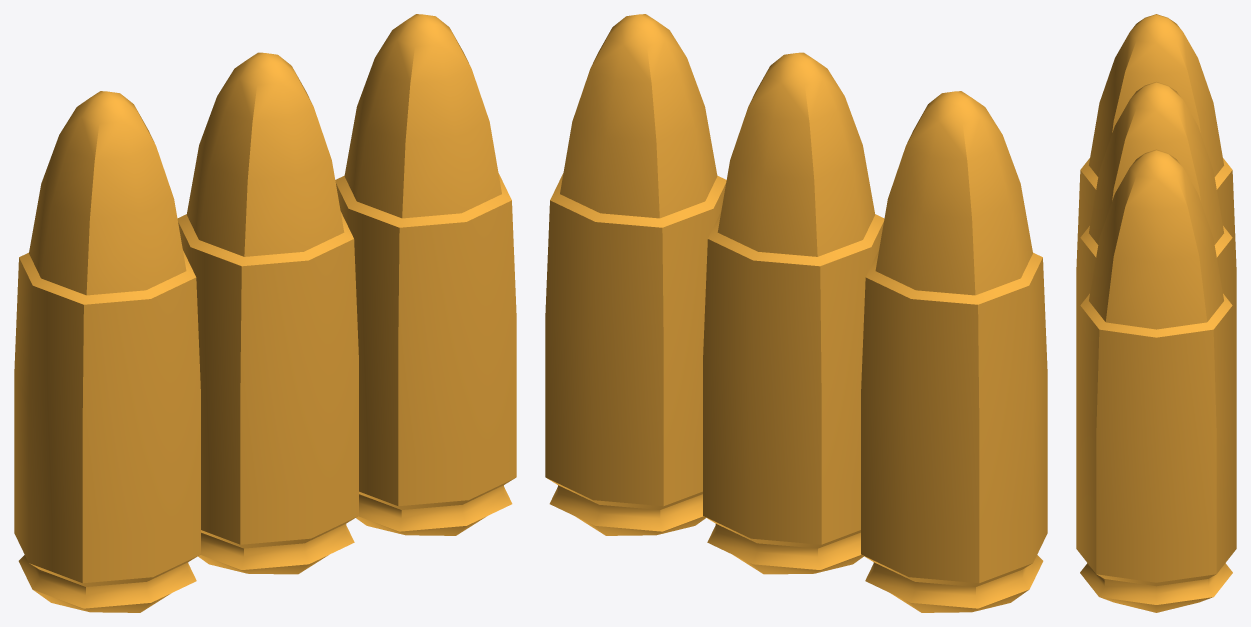
The model's file is pickup_bullets.glb.
3 renders of one model, left to right at view 1: azimuth 30°, elevation 25°; view 2: azimuth 150°, elevation 25°; view 3: azimuth 270°, elevation 25°, orthographic. The views are drawn at different scales.
Visible parts, largest first — view 1: Pickup_Bullets; view 2: Pickup_Bullets; view 3: Pickup_Bullets.
Part boxes in pixels (x1,y1,x2,y2): Pickup_Bullets: [14, 14, 516, 612]; Pickup_Bullets: [545, 14, 1047, 612]; Pickup_Bullets: [1076, 14, 1236, 612].
Bounding box in the file's own units: 0.8284 × 0.8421 × 0.2761.
1 material, 1 textured.
